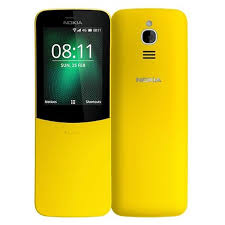nokia: (110, 5, 190, 219), (34, 4, 114, 218)
